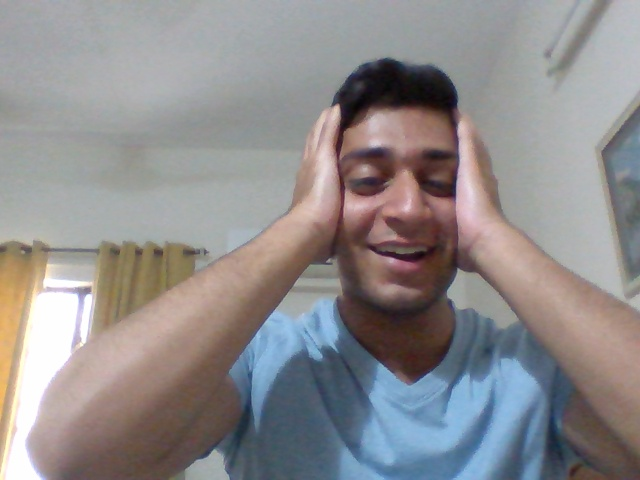surprised: (354, 125, 458, 326)
